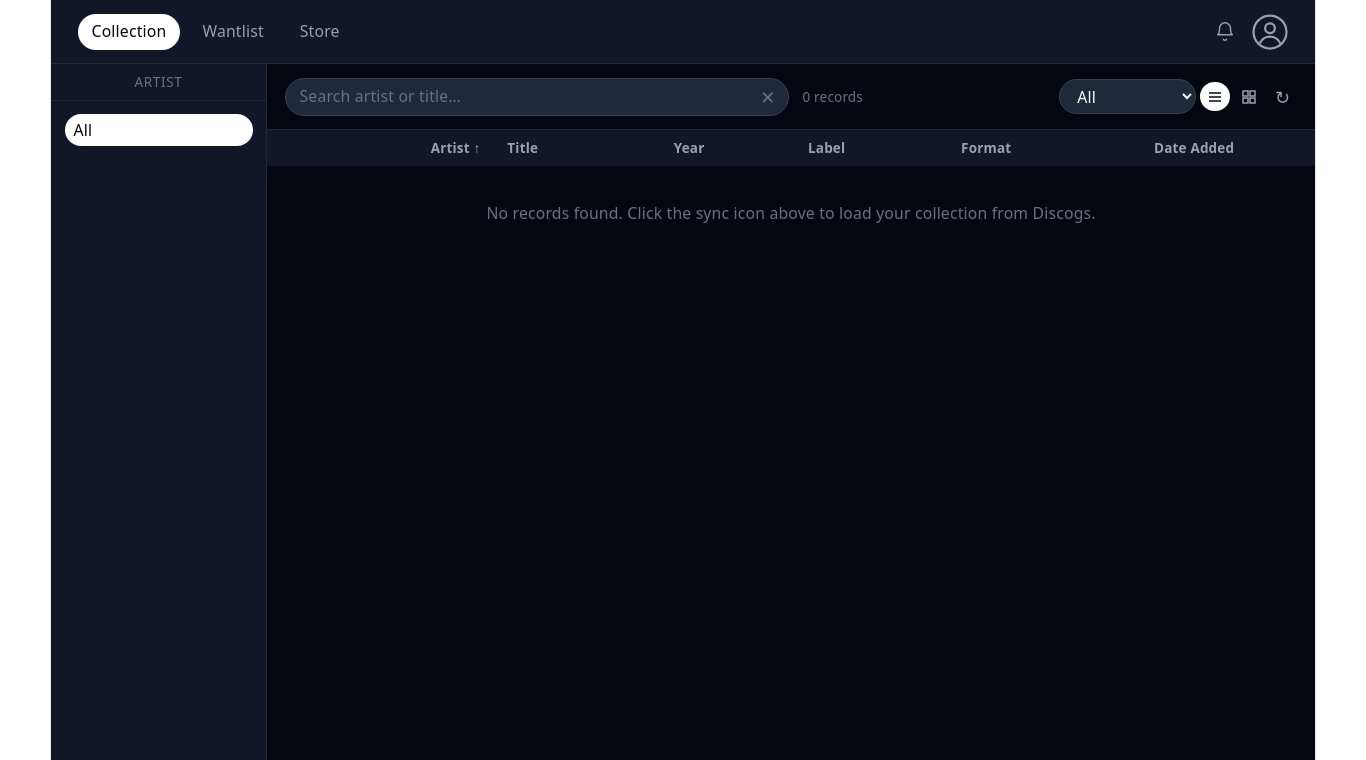
it: stopping a recommendation run from the profile page › reads Refresh when no run is under way
The width and height of the screenshot is (1366, 760).
Click the button named "profile": click(1270, 32) [1252,14,1288,50]
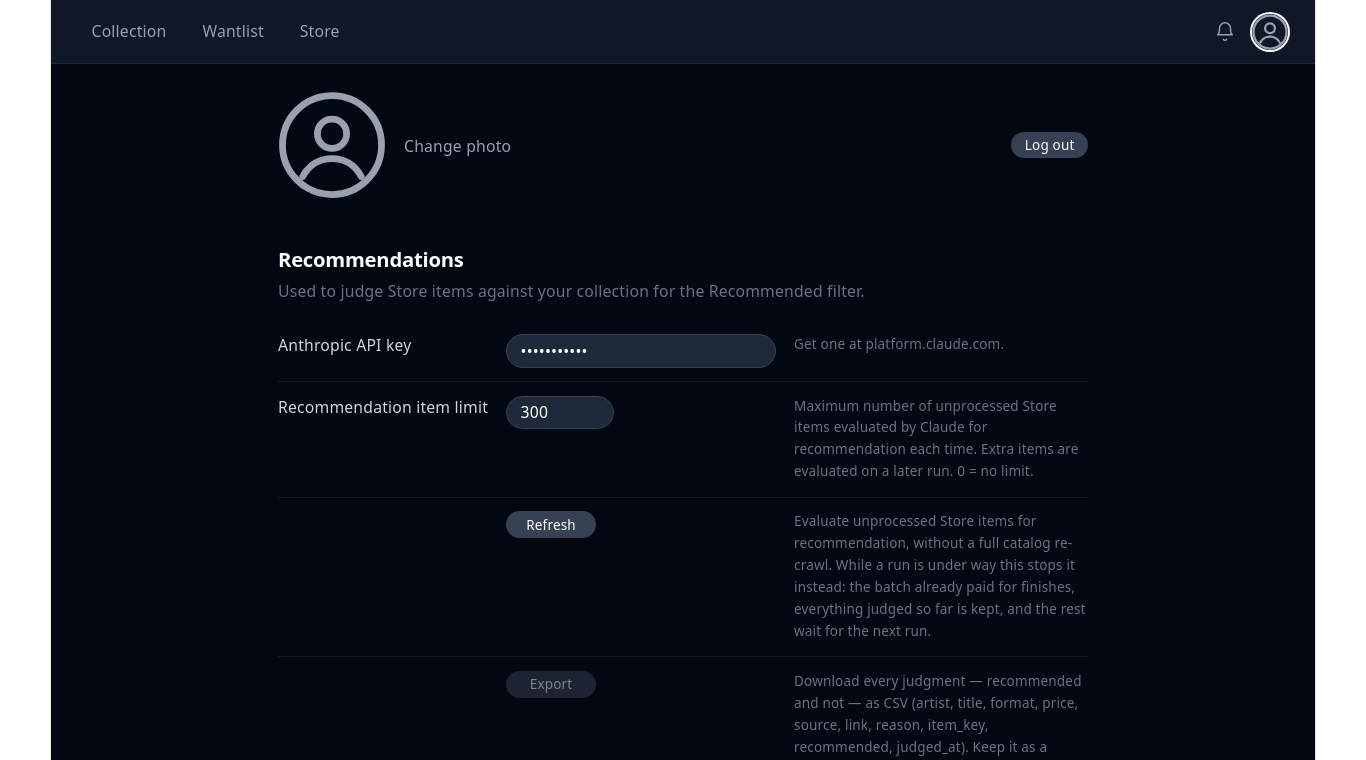
Expected: the button "Refresh" is shown, [506,511,596,538]
